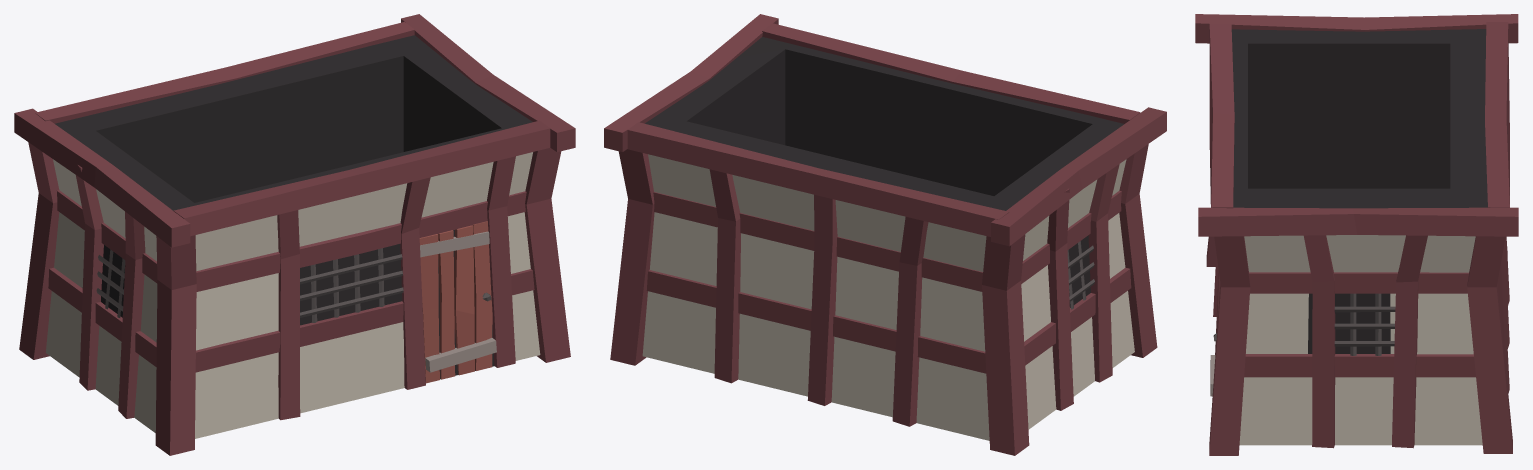
The model's file is Mountain_Floor_Small.fbx.
3 views of the same model, side by side, from view 1: azimuth 30°, elevation 25°; view 2: azimuth 150°, elevation 25°; view 3: azimuth 270°, elevation 25° (orthographic). The views are drawn at different scales.
Parts seen in each view (by area): view 1: Mountain_Floor_Small; view 2: Mountain_Floor_Small; view 3: Mountain_Floor_Small.
Boxes of the visible parts, x1=… form: Mountain_Floor_Small: x1=14, y1=14, x2=575, y2=455; Mountain_Floor_Small: x1=604, y1=14, x2=1166, y2=455; Mountain_Floor_Small: x1=1195, y1=14, x2=1518, y2=455.
Bounding box in the file's own units: 169 × 113 × 92.24.
